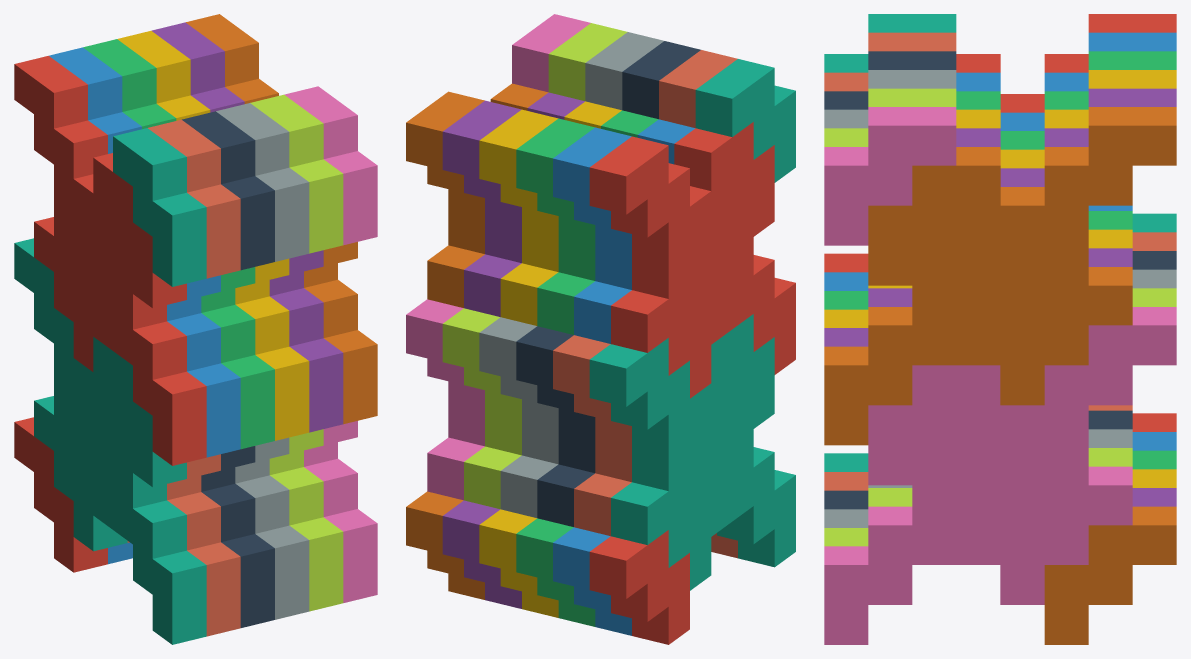
Rendered from tiling.obj.
3 renders of one model, left to right at view 1: azimuth 30°, elevation 25°; view 2: azimuth 150°, elevation 25°; view 3: azimuth 270°, elevation 25°, orthographic. The views are drawn at different scales.
Parts seen in each view (by area): view 1: copy_79, copy_73, copy_67, copy_13, copy_82, copy_83, copy_84, copy_81, copy_80, copy_69, copy_70, copy_76 (+42 smaller); view 2: copy_13, copy_1, copy_7, copy_79, copy_25, copy_19, copy_67, copy_61, copy_37, copy_31, copy_73, copy_49 (+47 smaller); view 3: copy_18, copy_84, copy_78, copy_72, copy_66, copy_12, copy_30, copy_54, copy_24, copy_6, copy_42, copy_48 (+48 smaller).
Boxes of the visible parts, box(x1,y1,x2,y2) form: copy_79: box(113, 128, 206, 286); copy_73: box(113, 315, 206, 465); copy_67: box(113, 494, 206, 644); copy_13: box(14, 56, 107, 214); copy_82: box(216, 103, 309, 261); copy_83: box(250, 94, 343, 253); copy_84: box(284, 86, 377, 245); copy_81: box(182, 111, 274, 270); copy_80: box(148, 119, 240, 278); copy_69: box(201, 483, 274, 627); copy_70: box(236, 475, 309, 619); copy_76: box(236, 296, 309, 440); copy_13: box(589, 136, 689, 260); copy_1: box(589, 530, 689, 644); copy_7: box(589, 338, 689, 452); copy_79: box(695, 59, 795, 182); copy_25: box(611, 284, 711, 398); copy_19: box(611, 476, 711, 590); copy_67: box(717, 447, 795, 567); copy_61: box(674, 122, 774, 236); copy_37: box(632, 230, 732, 344); copy_31: box(632, 422, 732, 536); copy_73: box(732, 255, 795, 374); copy_49: box(690, 176, 753, 290); copy_18: box(1044, 107, 1176, 245); copy_84: box(824, 107, 956, 245); copy_78: box(824, 307, 956, 445); copy_72: box(824, 506, 956, 644); copy_66: box(868, 147, 1000, 285); copy_12: box(1044, 307, 1176, 445); copy_30: box(1000, 267, 1132, 405); copy_54: box(912, 187, 1044, 325); copy_24: box(1000, 466, 1132, 604); copy_6: box(1044, 506, 1176, 644); copy_42: box(956, 245, 1088, 365); copy_48: box(912, 405, 1044, 525).
Bounding box in the file's own units: 6 × 13 × 8.
